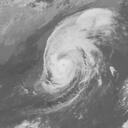cyclone: (41, 21, 103, 100)
